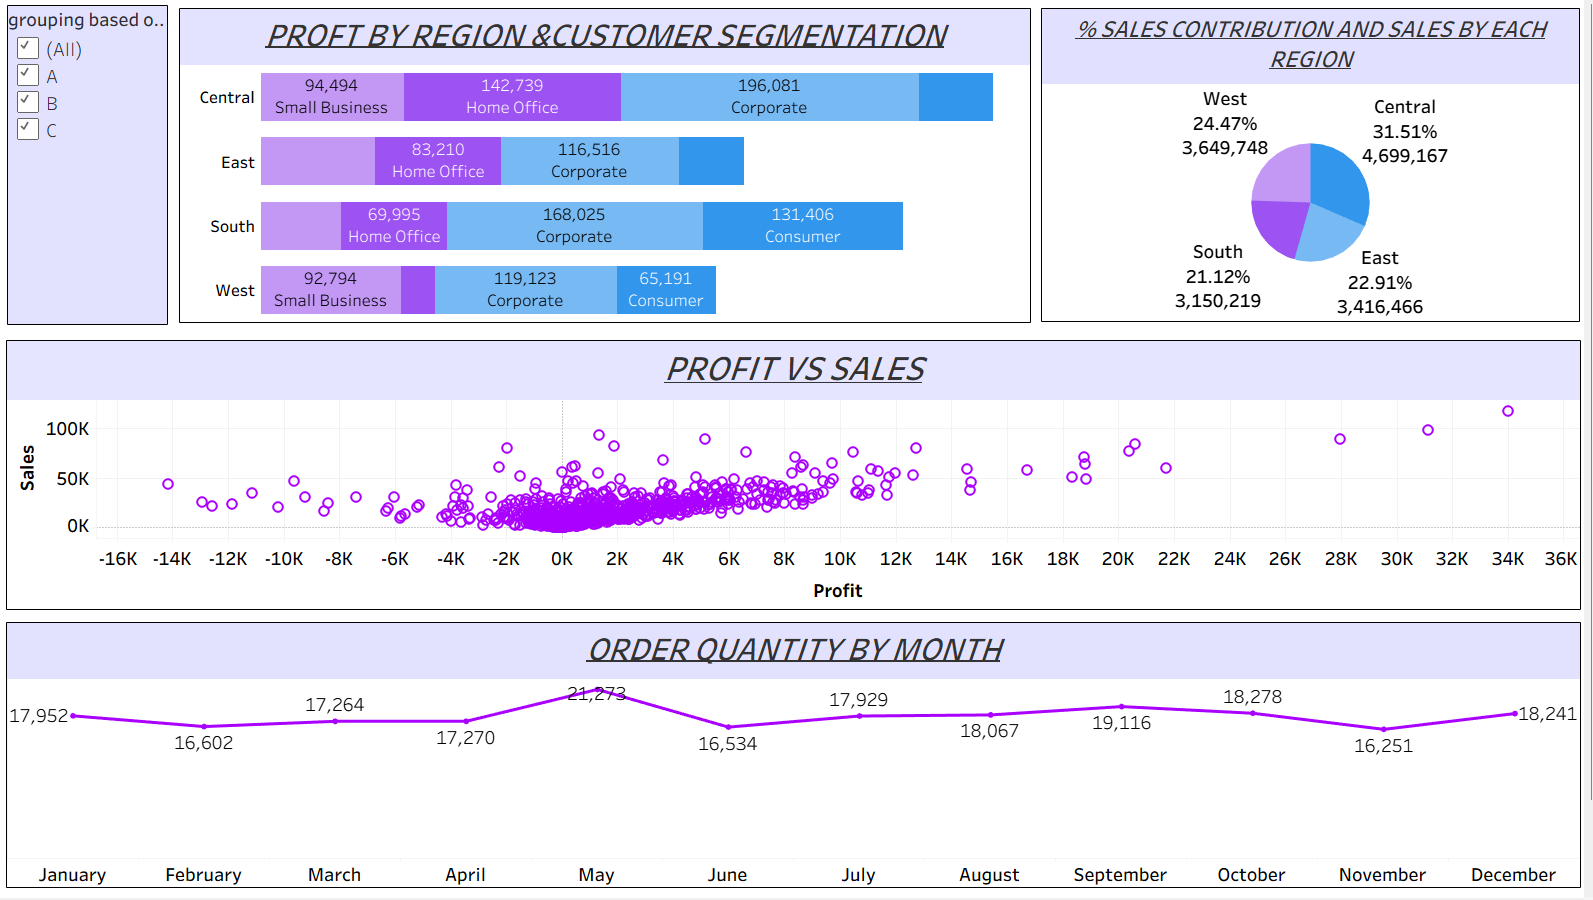

What the dashboard file says about the page in this screenshot:
{"tool":"tableau","page":{"name":"Dashboard 1","canvas":[1600,1000],"ordinal":0},"visuals":[{"type":"filter","title":"Sheet 3","param":"[federated.18jpibi0r52me31cizjzu056pwt2].[none:Calculation_0787033340956672:nk]","box":[12,18,161,320]},{"type":"worksheet","title":"Sheet 1","mark":"Automatic","rows":["Region"],"cols":["Profit"],"box":[184,21,852,315]},{"type":"worksheet","title":"Sheet 2","mark":"Pie","box":[1046,21,539,314]},{"type":"worksheet","title":"Sheet 4","mark":"Automatic","rows":["Sales"],"cols":["Profit"],"box":[11,353,1575,270]},{"type":"worksheet","title":"Sheet 3","mark":"Automatic","rows":["Order Quantity"],"cols":["Order Date"],"box":[11,635,1575,266]}]}

Visuals, with their boxes on the page's 1600x1000 design canvas (x1, y1, x2, y2). These are canvas units, not pixel positions in the 1593x900 screenshot, which may show the page scaled, cropped or inside an application window:
"Sheet 3" filter: (12, 18, 173, 338)
"Sheet 1" worksheet: (184, 21, 1036, 336)
"Sheet 2" worksheet (Pie marks): (1046, 21, 1585, 335)
"Sheet 4" worksheet: (11, 353, 1586, 623)
"Sheet 3" worksheet: (11, 635, 1586, 901)
